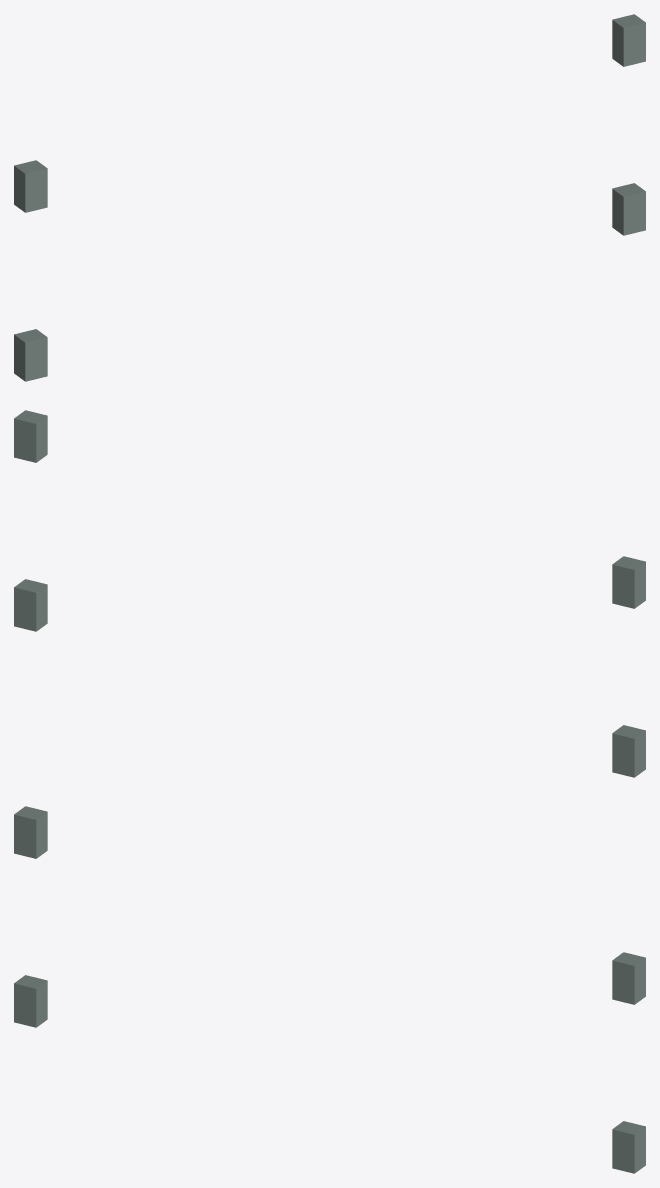
Rendered from SM_PuertaVia_v0_TuboChapa_e3_Brecha_LOD1.fbx.
3 renders of one model, top to bottom at view 1: azimuth 30°, elevation 25°; view 2: azimuth 150°, elevation 25°; view 3: azimuth 330°, elevation 25°, orthographic.
Parts seen in each view (by area): view 1: Hoja_E, Hoja_O; view 2: Hoja_E, Hoja_O; view 3: Hoja_E, Hoja_O.
Boxes of the visible parts, x1,y1,x2,y2 form: Hoja_E: (612, 14, 645, 235); Hoja_O: (14, 160, 47, 381); Hoja_E: (14, 410, 47, 631); Hoja_O: (612, 556, 645, 777); Hoja_E: (612, 952, 645, 1173); Hoja_O: (14, 806, 47, 1027).
Size of what is drawn, in the model's own units: 5 by 1.6 by 0.16.
